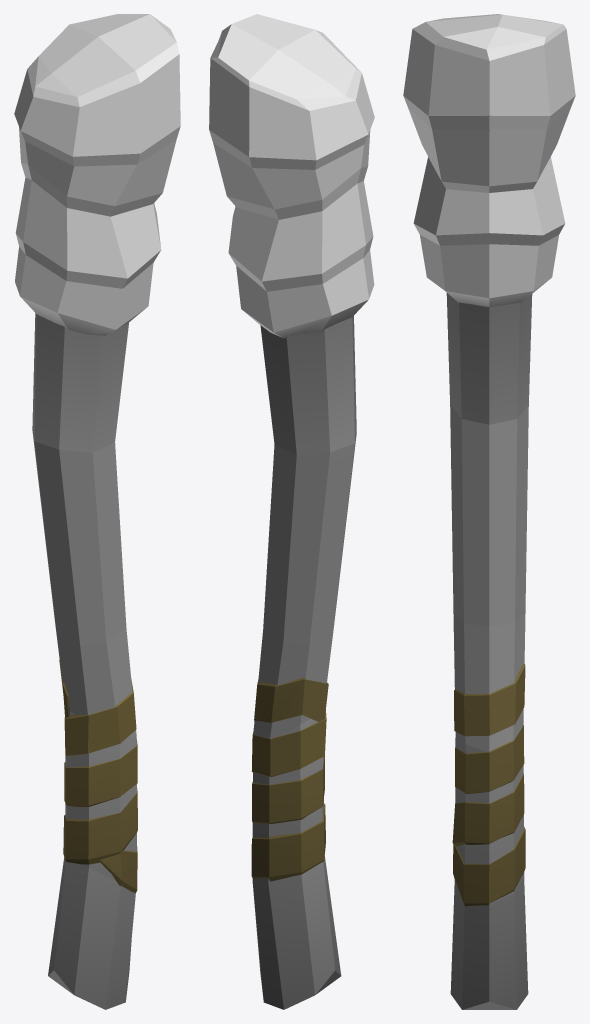
Rendered from pq_torche_bois.glb.
3 renders of one model, left to right at view 1: azimuth 30°, elevation 25°; view 2: azimuth 150°, elevation 25°; view 3: azimuth 270°, elevation 25°, orthographic. The views are drawn at different scales.
Visible parts, largest first — view 1: WoodenTorch; view 2: WoodenTorch; view 3: WoodenTorch.
Boxes of the visible parts, x1=… form: WoodenTorch: x1=14, y1=14, x2=180, y2=1009; WoodenTorch: x1=209, y1=14, x2=374, y2=1009; WoodenTorch: x1=403, y1=14, x2=575, y2=1009.
Size of the model in its own units: 0.102 by 0.6 by 0.0934.
